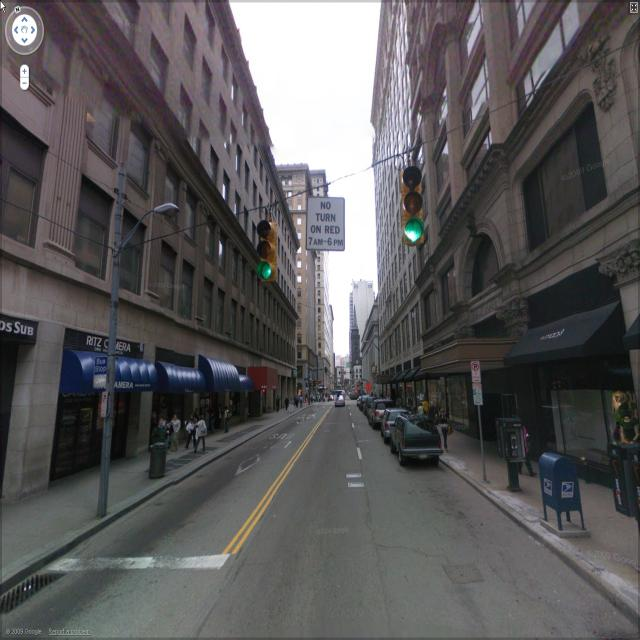b_1: (1, 12, 293, 392), (421, 5, 640, 473), (372, 5, 424, 397), (292, 162, 322, 392), (338, 272, 376, 382), (316, 292, 338, 388)
